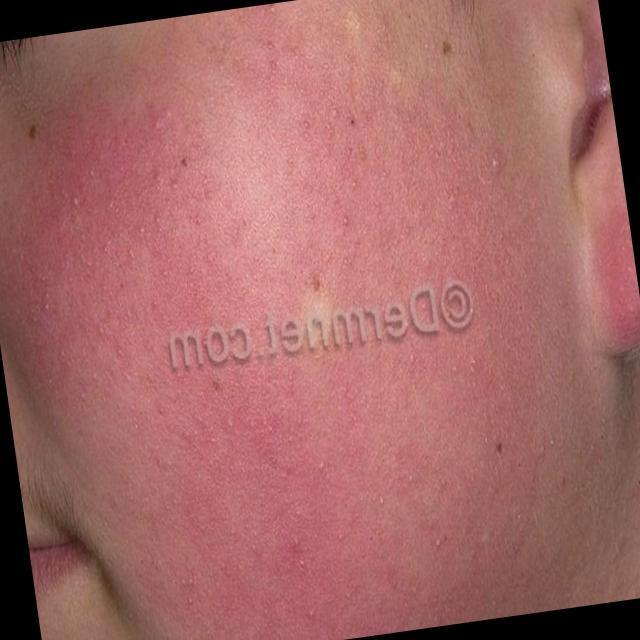Eczema: (18, 45, 537, 613)
